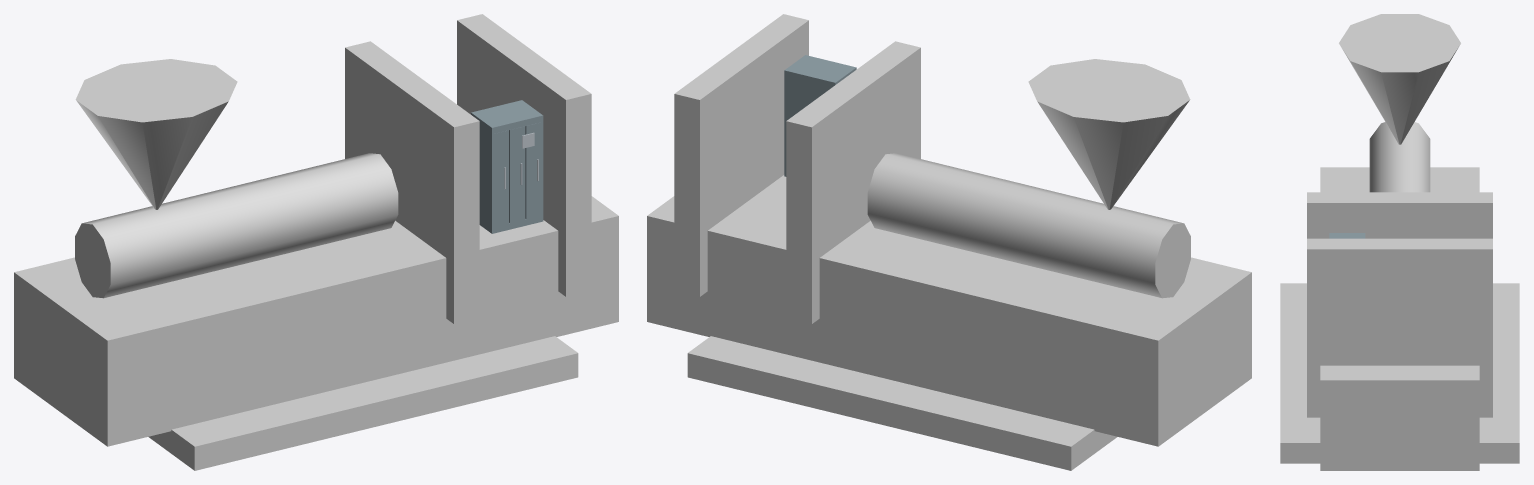
3 views of the same model, side by side, from view 1: azimuth 30°, elevation 25°; view 2: azimuth 150°, elevation 25°; view 3: azimuth 270°, elevation 25° (orthographic). The views are drawn at different scales.
Parts seen in each view (by area): view 1: housing_3, screw_barrel_4, clamp_platen_6, base_frame_1, clamp_platen_7, hopper_5, g0009, g0005, g0007, g0003, g0008; view 2: housing_3, screw_barrel_4, clamp_platen_6, clamp_platen_7, base_frame_1, hopper_5, g0010, g0008; view 3: clamp_platen_7, housing_3, base_frame_1, hopper_5, clamp_platen_6, screw_barrel_4.
Boxes of the visible parts, box(x1,y1,x2,y2) form: housing_3: box(14, 196, 618, 446); screw_barrel_4: box(75, 153, 398, 298); clamp_platen_6: box(345, 41, 479, 324); base_frame_1: box(148, 336, 578, 470); clamp_platen_7: box(457, 14, 591, 296); hopper_5: box(75, 59, 237, 209); g0009: box(472, 112, 495, 232); g0005: box(509, 126, 525, 223); g0007: box(493, 130, 508, 227); g0003: box(525, 122, 541, 219); g0008: box(476, 102, 540, 133); housing_3: box(647, 175, 1251, 446); screw_barrel_4: box(867, 153, 1190, 298); clamp_platen_6: box(786, 41, 920, 324); clamp_platen_7: box(674, 14, 808, 296); base_frame_1: box(687, 336, 1117, 470); hopper_5: box(1028, 59, 1190, 209); g0010: box(784, 69, 835, 171); g0008: box(785, 55, 852, 87); clamp_platen_7: box(1307, 238, 1492, 417); housing_3: box(1320, 167, 1479, 470); base_frame_1: box(1280, 283, 1519, 463); hopper_5: box(1339, 14, 1460, 144); clamp_platen_6: box(1307, 192, 1492, 238); screw_barrel_4: box(1369, 122, 1430, 192).
Bounding box in the file's own units: 4 × 2.56 × 1.9.
